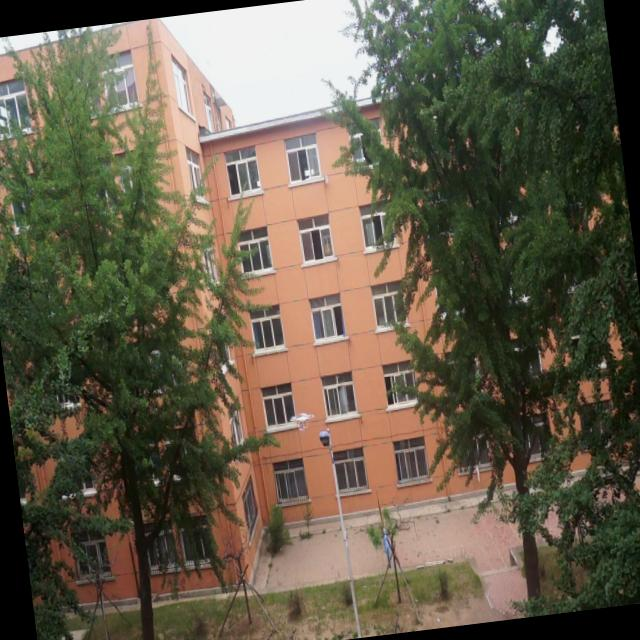drone: (288, 406, 318, 435)
